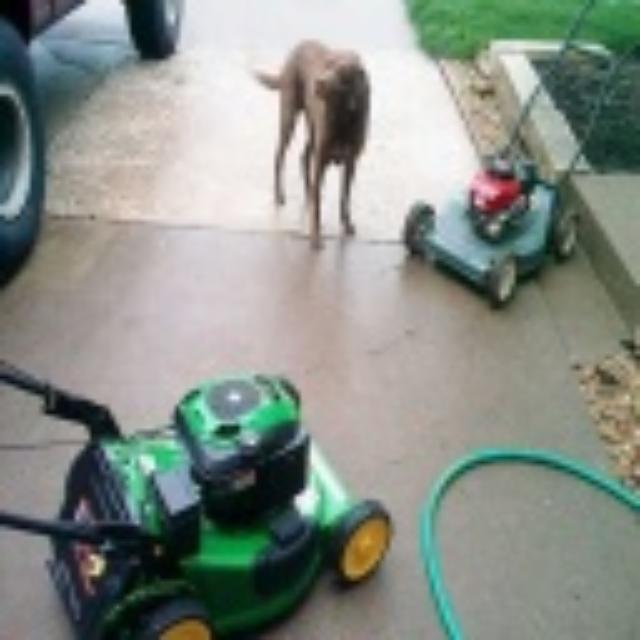Rotary-Mower: (1, 345, 396, 635)
